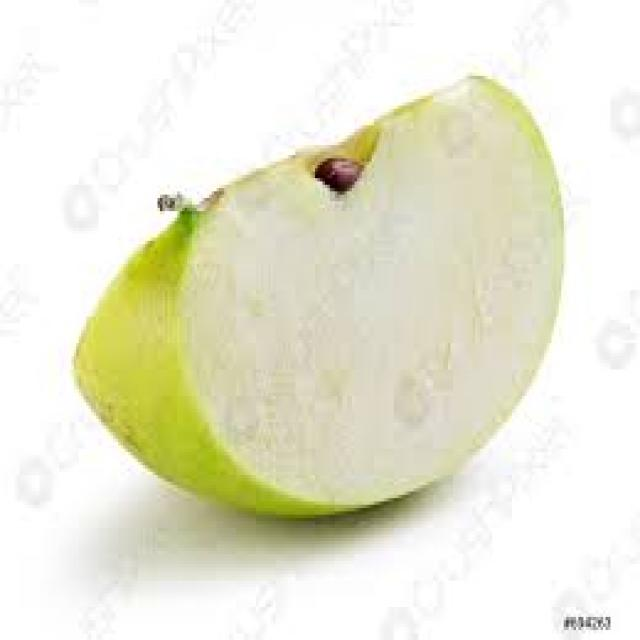Apple: (74, 72, 562, 514)
